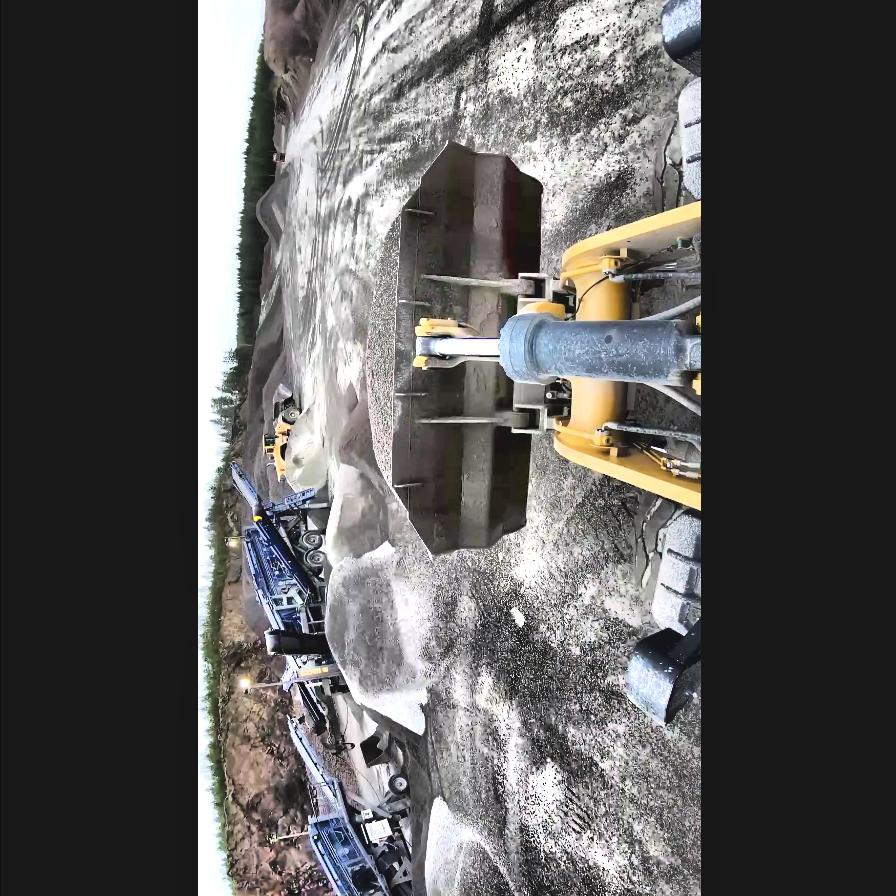anchor: (410, 316, 488, 370)
pile of gravel: (310, 408, 428, 726), (256, 0, 368, 140), (242, 300, 284, 458), (254, 175, 284, 249)
